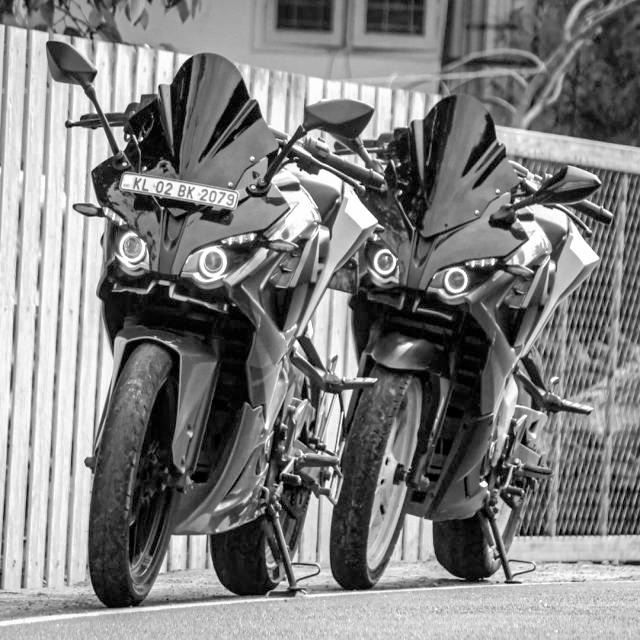Bike: (40, 39, 310, 640), (331, 79, 611, 640)
